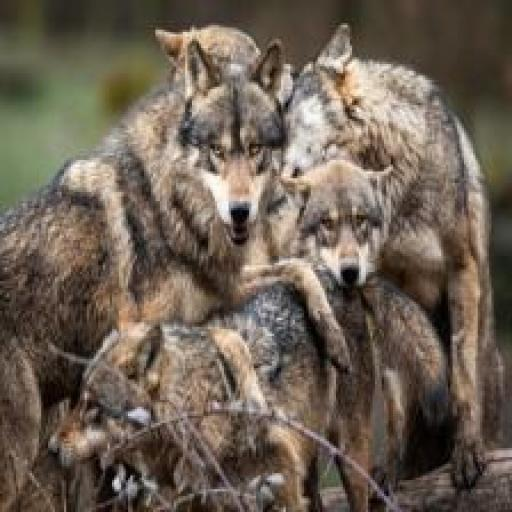wolf: (0, 32, 302, 389), (41, 256, 420, 511), (281, 149, 408, 313)
